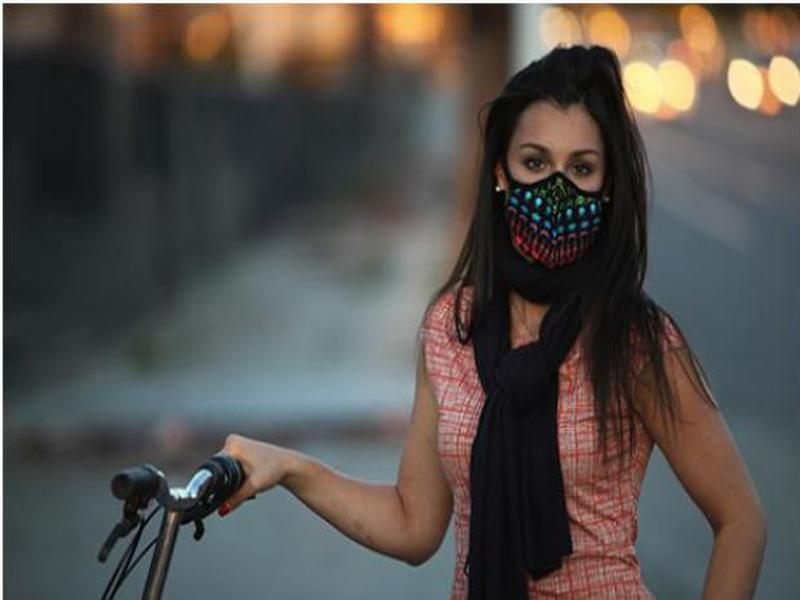with_mask: (506, 102, 611, 275)
